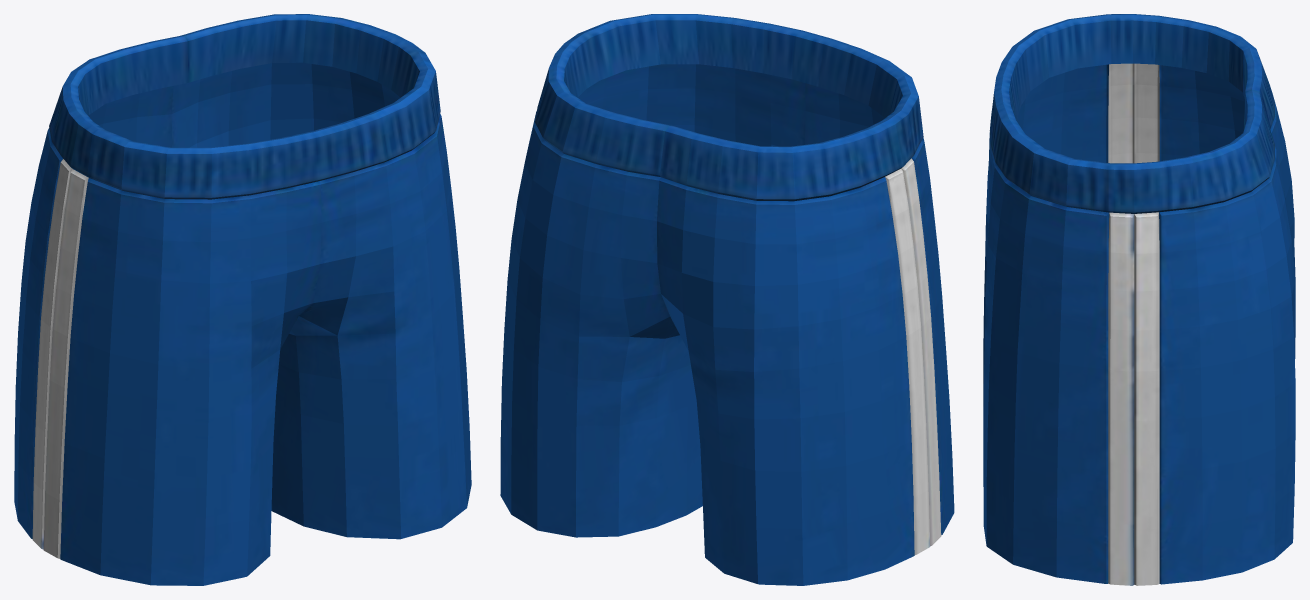
The model's file is shorts-min01.glb.
3 views of the same model, side by side, from view 1: azimuth 30°, elevation 25°; view 2: azimuth 150°, elevation 25°; view 3: azimuth 270°, elevation 25° (orthographic). The views are drawn at different scales.
Visible parts, largest first — view 1: 对象002; view 2: 对象002; view 3: 对象002.
Part boxes in pixels (x1=…): 对象002: x1=14, y1=14, x2=471, y2=585; 对象002: x1=500, y1=14, x2=954, y2=585; 对象002: x1=983, y1=14, x2=1295, y2=585.
Bounding box in the file's own units: 0.2179 × 0.2165 × 0.1517.
1 material, 1 textured.
